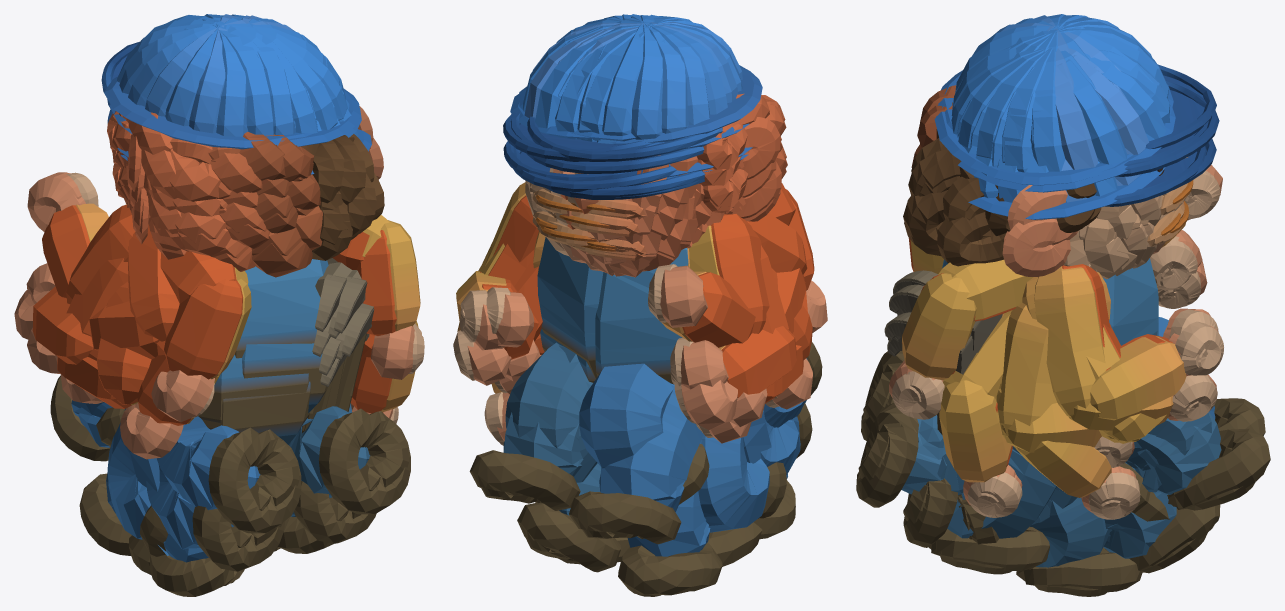
File: worker_run.fbx
The picture shows the model from 3 angles, left to right: view 1: azimuth 30°, elevation 25°; view 2: azimuth 150°, elevation 25°; view 3: azimuth 270°, elevation 25°; orthographic projection.
Visible parts, largest first — view 1: Run1; view 2: Run1; view 3: Run1.
Boxes of the visible parts, x1,y1,x2,y2 form: Run1: (14,14,424,596); Run1: (453,14,827,596); Run1: (856,14,1270,596).
Bounding box in the file's own units: 1.39 × 2.23 × 1.55.
